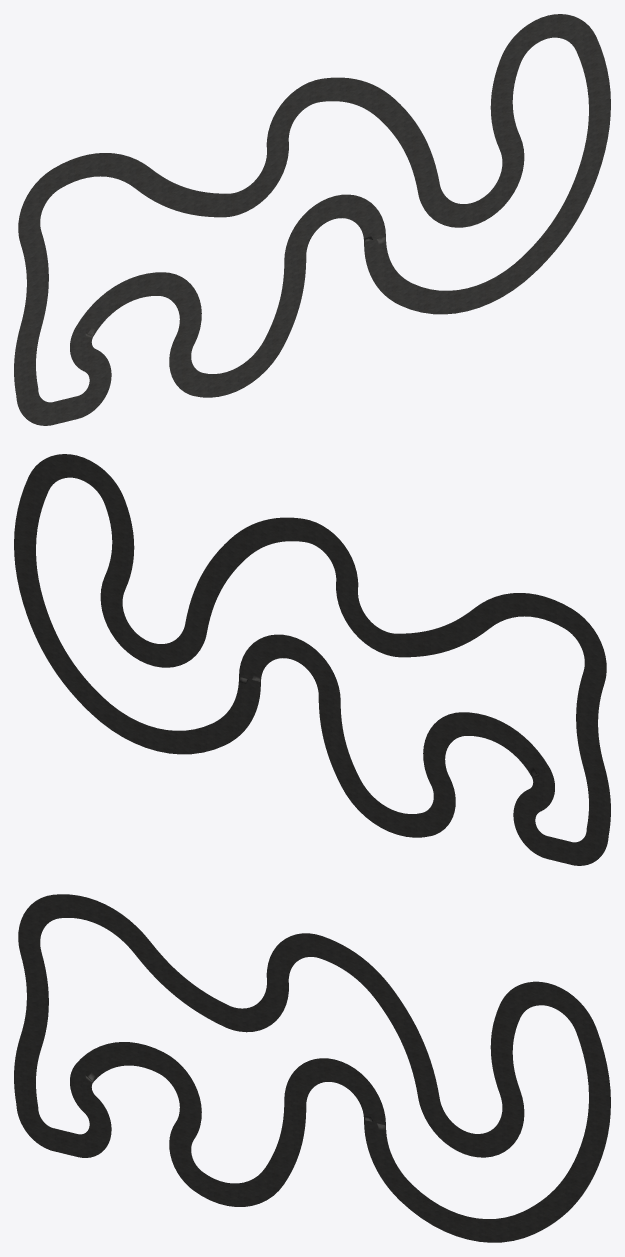
File: track18_road.obj
3 views of the same model, one above another, from view 1: azimuth 30°, elevation 25°; view 2: azimuth 150°, elevation 25°; view 3: azimuth 330°, elevation 25° (orthographic).
Visible parts, largest first — view 1: road_0_curve_.003; view 2: road_0_curve_.003; view 3: road_0_curve_.003.
Part boxes in pixels (bbox=[...]): road_0_curve_.003: bbox=[14, 14, 610, 425]; road_0_curve_.003: bbox=[14, 454, 610, 865]; road_0_curve_.003: bbox=[14, 894, 610, 1242].
Size of the model in its own units: 44.41 by 21.41 by 0.
1 material, 1 textured.
